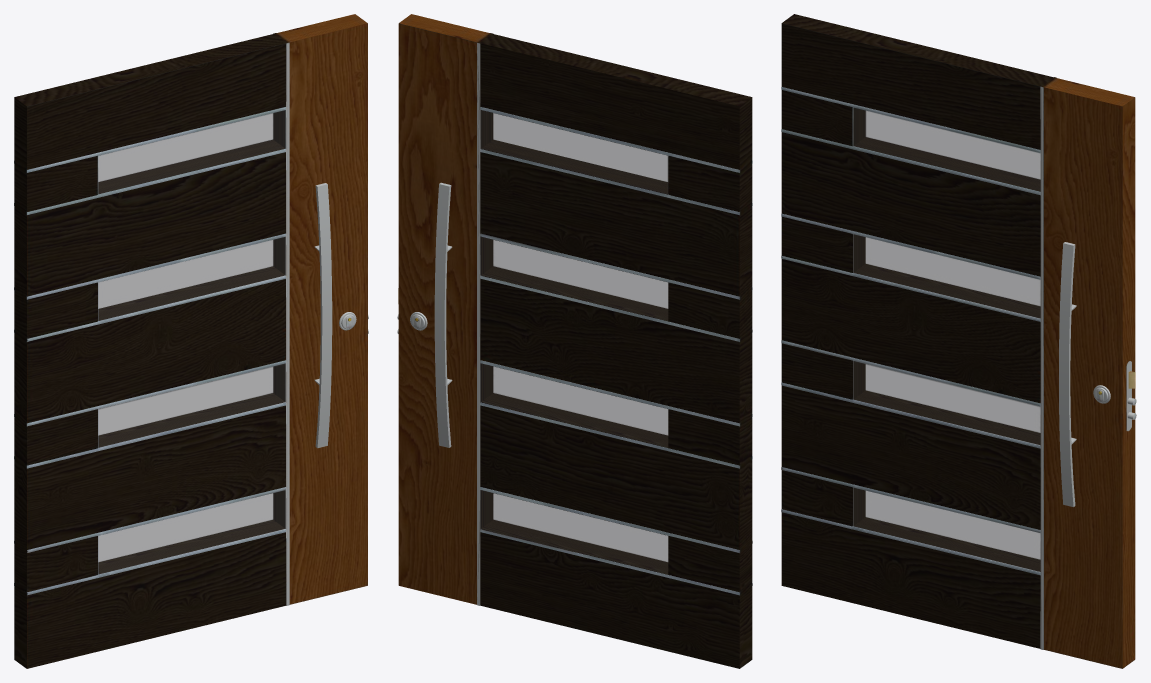
The model's file is modern_door.glb.
3 views of the same model, side by side, from view 1: azimuth 30°, elevation 25°; view 2: azimuth 150°, elevation 25°; view 3: azimuth 330°, elevation 25° (orthographic).
Parts seen in each view (by area): view 1: DoorLowPoly; view 2: DoorLowPoly; view 3: DoorLowPoly.
Part boxes in pixels (x1,y1,x2,y2): DoorLowPoly: (14, 14, 368, 668); DoorLowPoly: (397, 14, 752, 668); DoorLowPoly: (781, 14, 1136, 668).
Size of the model in its own units: 61.05 by 94.5 by 9.26.
1 material, 1 textured.
